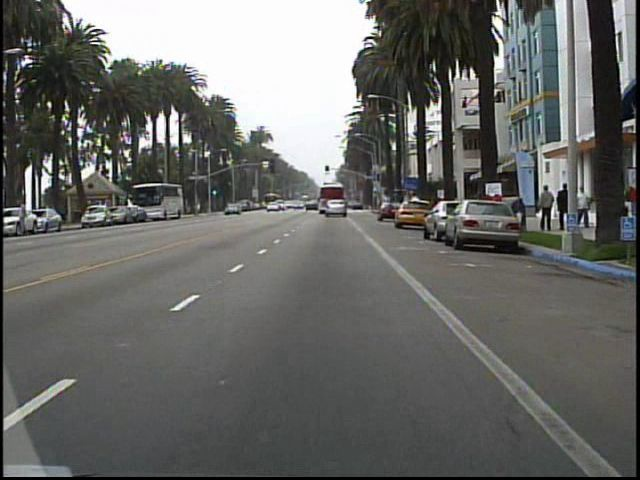person: (553, 178, 572, 234), (536, 183, 554, 234), (579, 182, 592, 229)
